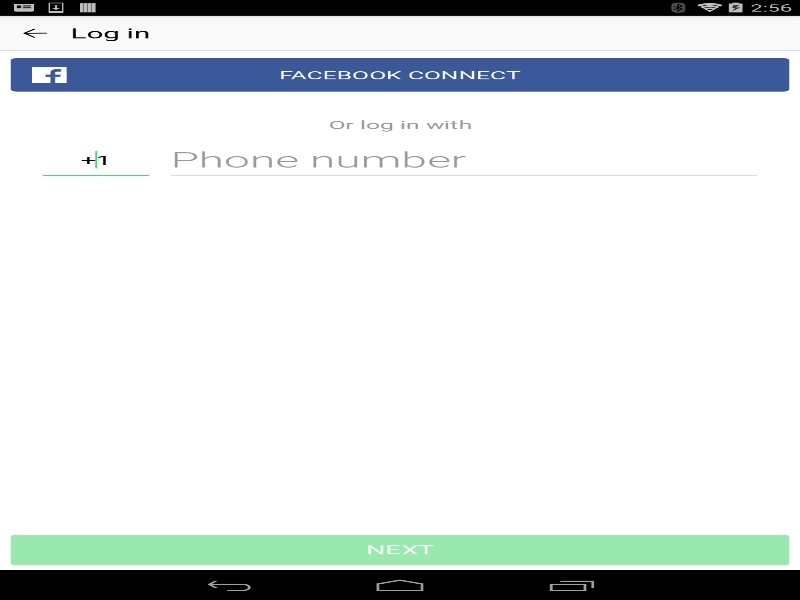Button: (10, 58, 789, 91), (10, 535, 789, 565), (0, 15, 173, 50)
Input: (170, 146, 757, 176), (42, 150, 149, 176)
